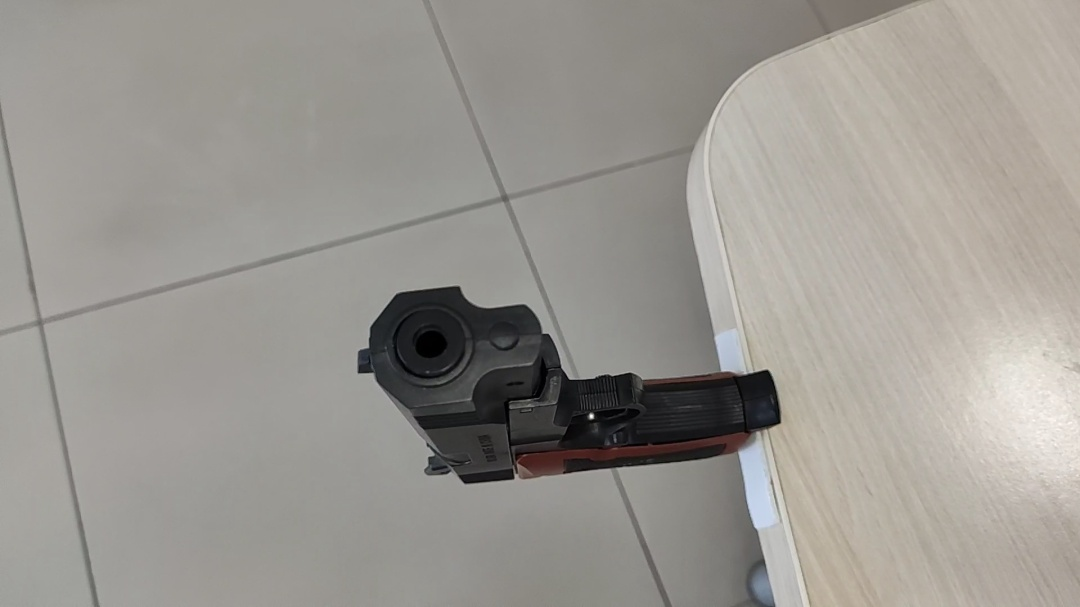gun: (372, 256, 418, 282)
